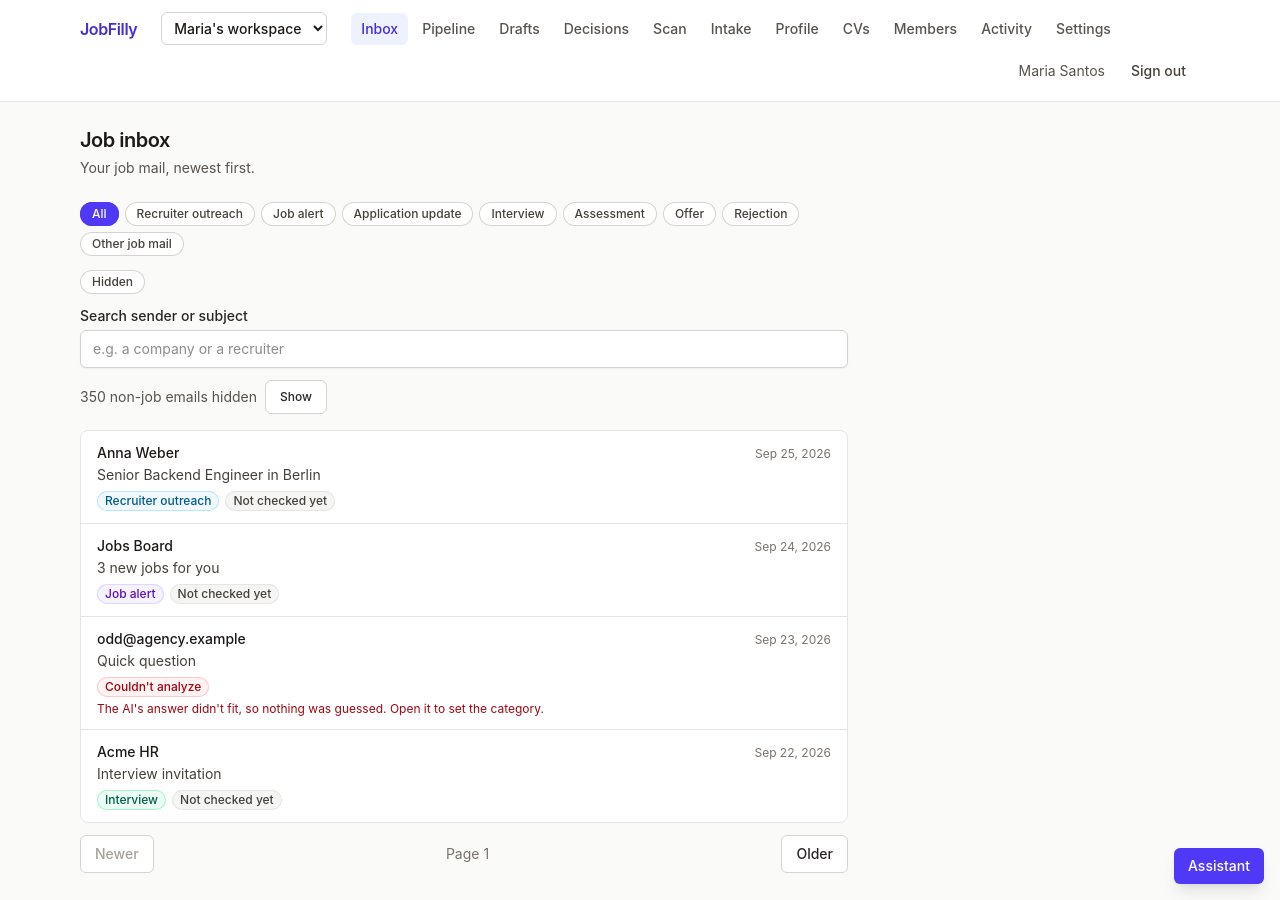
the list (F5.1) › pages by asking the server for the next page
Expected: the button "Newer" is disabled, [80,835,154,873]
What coordinates should you click on to do the following:
click the button "Older"
I would click on:
 (815, 854)
Its box is [781,835,848,873].
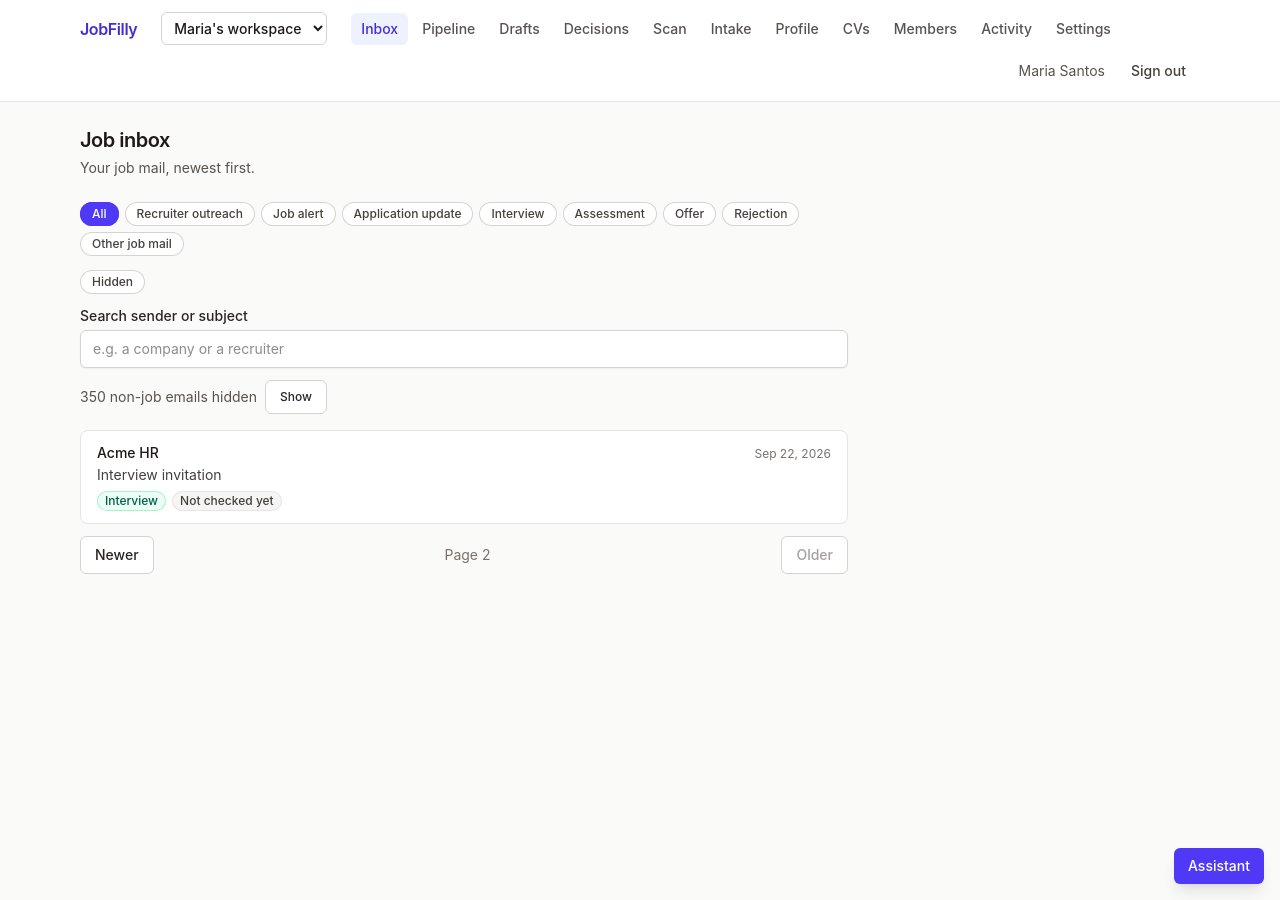
Result: the text "Page 2" is shown at [444,545,490,565]
Result: the button "Older" is disabled at [781,536,848,574]
